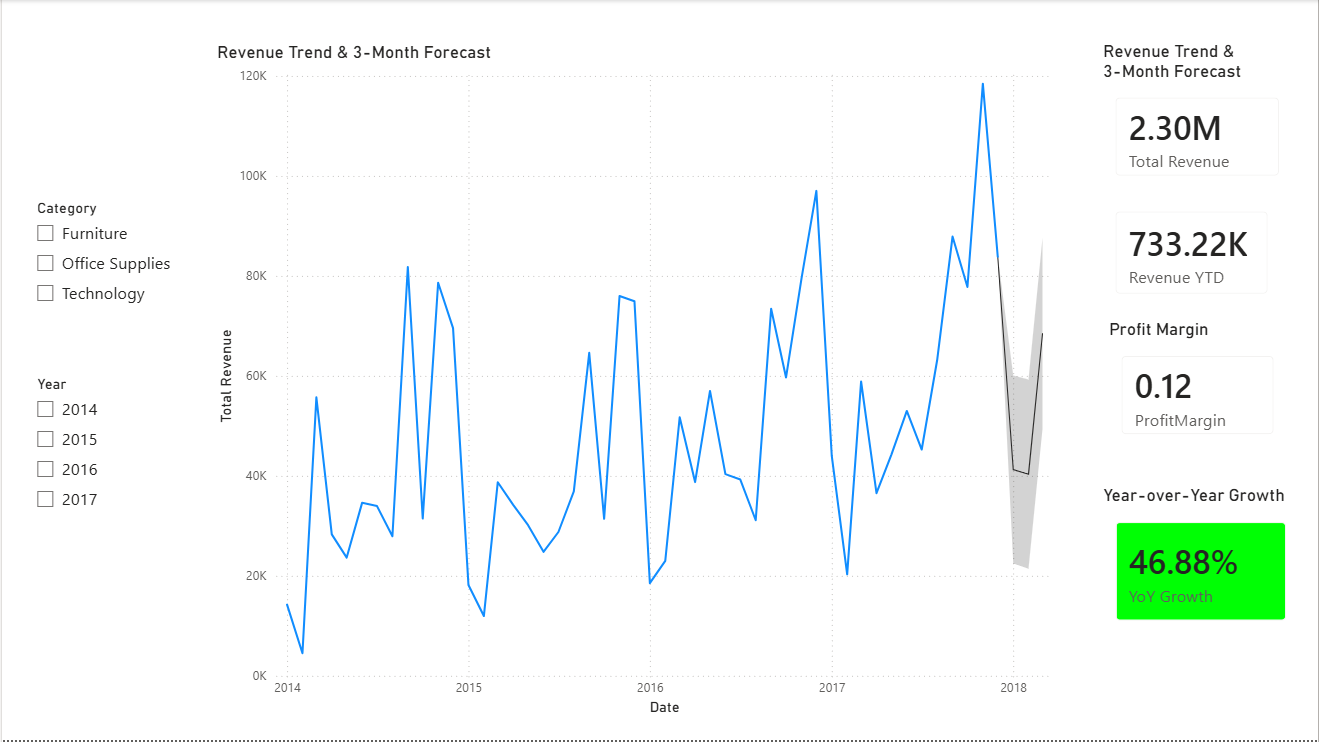

Layout of this report page (visuals, bound fields, positions):
{"tool":"powerbi","page":{"name":"Page 1","canvas":[1280,720],"ordinal":0},"visuals":[{"type":"lineChart","title":"Revenue Trend & 3-Month Forecast","fields":{"Y":["vw_SalesForecast.Total Revenue"],"Category":["DateTable.Date"]},"box":[204.3,40.9,825.8,659.5],"z":0},{"type":"slicer","fields":{"Values":["vw_SalesForecast.Category"]},"box":[21.4,188.6,182.9,121.4],"z":1000},{"type":"cardVisual","title":"Revenue Trend & 3-Month Forecast","fields":{"Data":["vw_SalesForecast.Total Revenue"]},"box":[1066,39.9,193.6,148.8],"z":2000},{"type":"cardVisual","title":"Year-over-Year Growth","fields":{"Data":["vw_SalesForecast.YoY Growth"]},"box":[1066,471.7,200.4,149.8],"z":3000},{"type":"slicer","fields":{"Values":["DateTable.Year"]},"box":[21.4,360,145.7,150],"z":4000},{"type":"cardVisual","title":"Profit Margin","fields":{"Data":["vw_SalesForecast.ProfitMargin"]},"box":[1071.9,310.3,182.9,129.4],"z":5000},{"type":"cardVisual","fields":{"Data":["vw_SalesForecast.Sales_YTD"]},"box":[1066,188.7,182.9,114.8],"z":6000}]}

Visuals, with their boxes in screenshot pixels (x1, y1, x2, y2), scaled from the page's 1280x720 canvas onto the 1319x742 screenshot:
"Revenue Trend & 3-Month Forecast" lineChart: box=[211, 42, 1061, 722]
slicer - vw_SalesForecast.Category: box=[22, 194, 211, 319]
"Revenue Trend & 3-Month Forecast" cardVisual: box=[1098, 41, 1298, 194]
"Year-over-Year Growth" cardVisual: box=[1098, 486, 1305, 640]
slicer - DateTable.Year: box=[22, 371, 172, 526]
"Profit Margin" cardVisual: box=[1105, 320, 1293, 453]
cardVisual - vw_SalesForecast.Sales_YTD: box=[1098, 194, 1287, 313]
